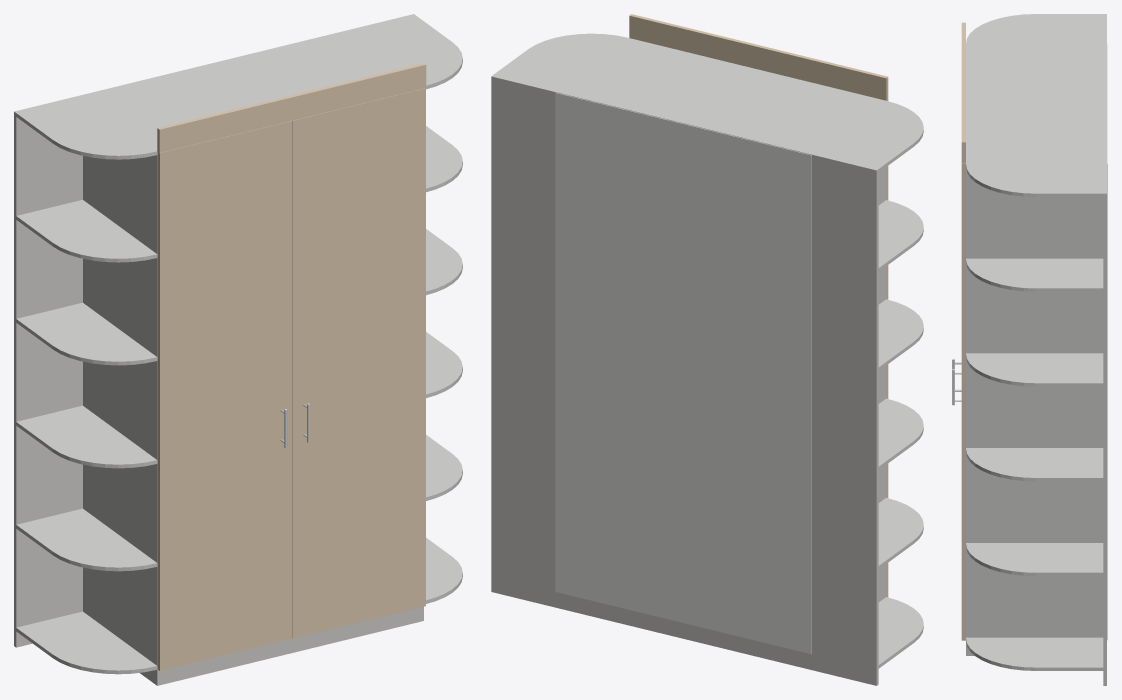
The model's file is wardrobe_cornice_ends.glb.
3 views of the same model, side by side, from view 1: azimuth 30°, elevation 25°; view 2: azimuth 150°, elevation 25°; view 3: azimuth 270°, elevation 25° (orthographic). The views are drawn at different scales.
Visible parts, largest first — view 1: 13:sections[0].doors.door[1], 14:sections[1].doors.door[1], 1:body.side.left, 16:end_unit.left.rear, 3:body.top, 15:body.cornice, 22:end_unit.left.top, 21:end_unit.left.shelf[4], 18:end_unit.left.shelf[1], 20:end_unit.left.shelf[3], 19:end_unit.left.shelf[2], 17:end_unit.left.bottom (+7 smaller); view 2: 30:body.back[1], 16:end_unit.left.rear, 23:end_unit.right.rear, 3:body.top, 15:body.cornice, 22:end_unit.left.top, 29:end_unit.right.top, 6:body.plinth.back, 1:body.side.left, 17:end_unit.left.bottom, 18:end_unit.left.shelf[1], 19:end_unit.left.shelf[2] (+2 smaller); view 3: 2:body.side.right, 3:body.top, 29:end_unit.right.top, 24:end_unit.right.bottom, 28:end_unit.right.shelf[4], 27:end_unit.right.shelf[3], 26:end_unit.right.shelf[2], 25:end_unit.right.shelf[1], 22:end_unit.left.top, 14:sections[1].doors.door[1], 23:end_unit.right.rear, 15:body.cornice (+2 smaller).
Boxes of the visible parts, bbox=[...] form: 13:sections[0].doors.door[1]: bbox=[157, 120, 292, 670]; 14:sections[1].doors.door[1]: bbox=[292, 88, 425, 638]; 1:body.side.left: bbox=[81, 94, 160, 685]; 16:end_unit.left.rear: bbox=[14, 95, 82, 647]; 3:body.top: bbox=[84, 31, 395, 147]; 15:body.cornice: bbox=[157, 63, 426, 152]; 22:end_unit.left.top: bbox=[16, 97, 157, 159]; 21:end_unit.left.shelf[4]: bbox=[16, 199, 157, 262]; 18:end_unit.left.shelf[1]: bbox=[16, 508, 157, 571]; 20:end_unit.left.shelf[3]: bbox=[16, 302, 157, 365]; 19:end_unit.left.shelf[2]: bbox=[16, 405, 157, 468]; 17:end_unit.left.bottom: bbox=[16, 611, 157, 674]; 30:body.back[1]: bbox=[555, 92, 811, 654]; 16:end_unit.left.rear: bbox=[812, 153, 878, 685]; 23:end_unit.right.rear: bbox=[491, 75, 556, 607]; 3:body.top: bbox=[559, 39, 882, 154]; 15:body.cornice: bbox=[629, 14, 888, 100]; 22:end_unit.left.top: bbox=[815, 100, 923, 171]; 29:end_unit.right.top: bbox=[493, 33, 628, 90]; 6:body.plinth.back: bbox=[559, 593, 808, 669]; 1:body.side.left: bbox=[809, 100, 886, 669]; 17:end_unit.left.bottom: bbox=[878, 597, 923, 668]; 18:end_unit.left.shelf[1]: bbox=[878, 498, 923, 569]; 19:end_unit.left.shelf[2]: bbox=[878, 398, 923, 469]; 2:body.side.right: bbox=[966, 162, 1106, 655]; 3:body.top: bbox=[966, 45, 1106, 161]; 29:end_unit.right.top: bbox=[966, 163, 1103, 196]; 24:end_unit.right.bottom: bbox=[966, 637, 1103, 670]; 28:end_unit.right.shelf[4]: bbox=[966, 258, 1103, 291]; 27:end_unit.right.shelf[3]: bbox=[966, 353, 1103, 386]; 26:end_unit.right.shelf[2]: bbox=[966, 448, 1103, 481]; 25:end_unit.right.shelf[1]: bbox=[966, 543, 1103, 576]; 22:end_unit.left.top: bbox=[966, 14, 1103, 43]; 14:sections[1].doors.door[1]: bbox=[961, 163, 965, 640]; 23:end_unit.right.rear: bbox=[1103, 163, 1106, 685]; 15:body.cornice: bbox=[961, 22, 965, 163].
Bounding box in the file's own units: 1.8 × 2.4 × 0.6578.
